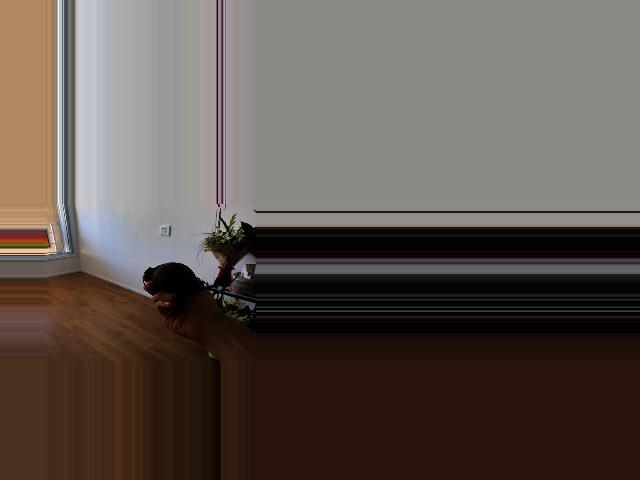beet: (142, 262, 238, 296)
